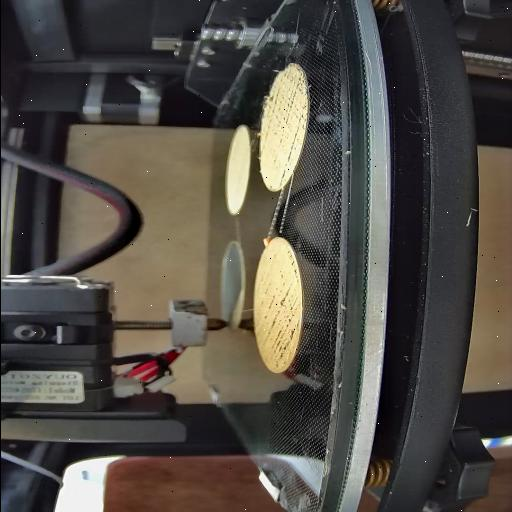under_extrusion: (265, 248, 297, 366), (262, 73, 306, 141), (278, 142, 296, 184)
